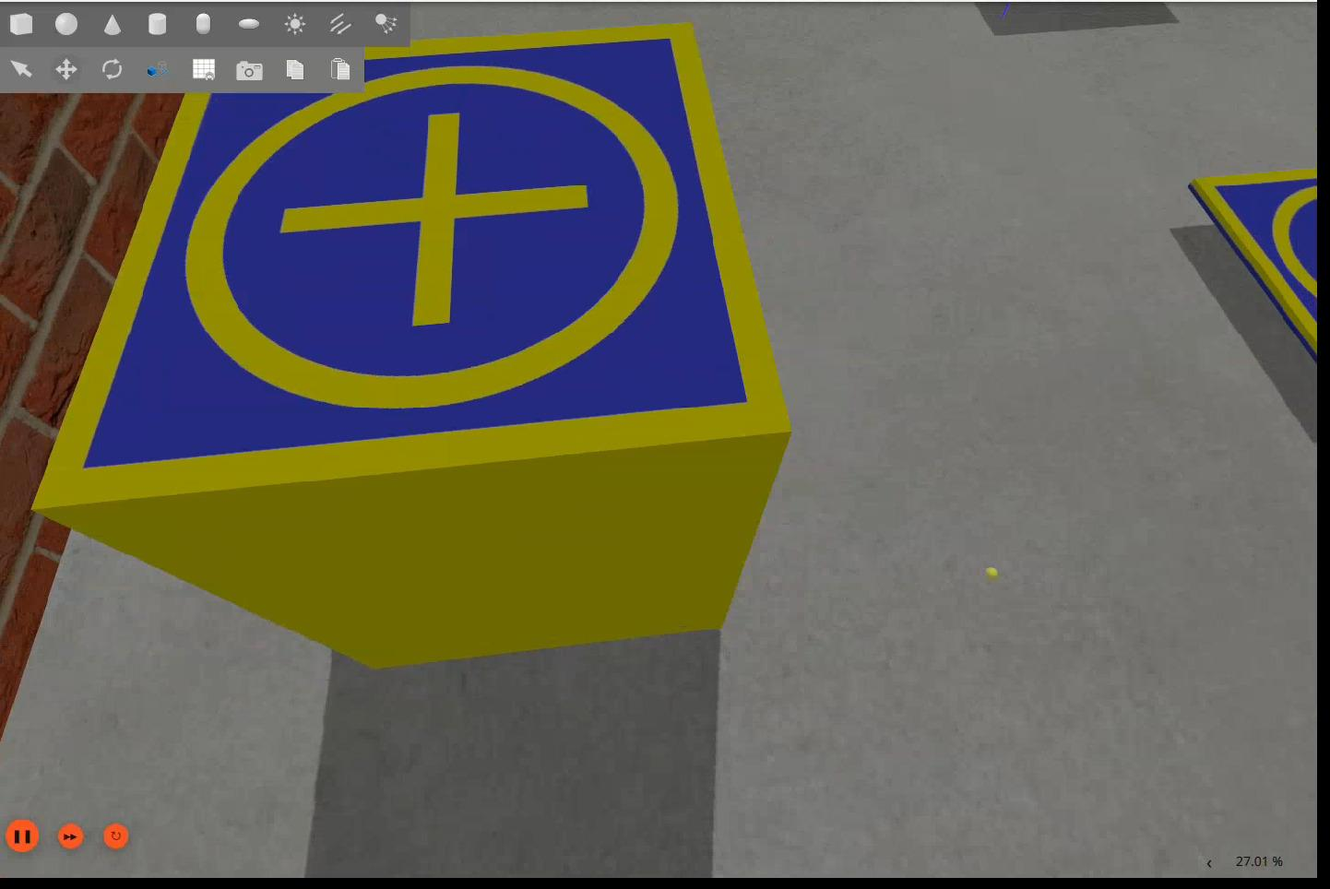small_base: (36, 11, 797, 530), (1189, 166, 1330, 360)
